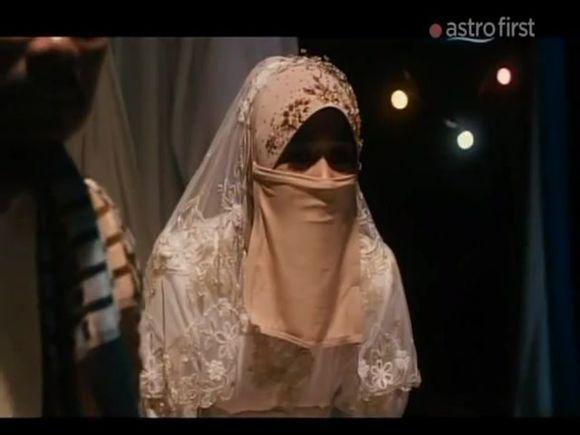NONE: (2, 14, 113, 140)
WRONG: (273, 131, 375, 233)
